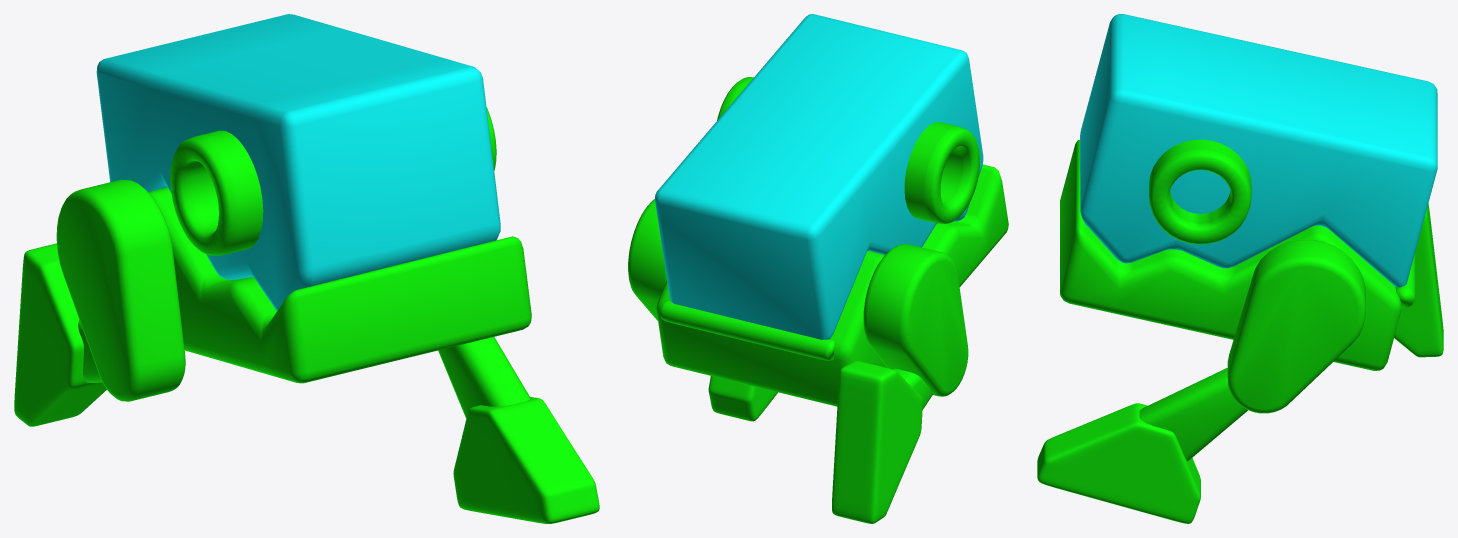
3 renders of one model, left to right at view 1: azimuth 30°, elevation 25°; view 2: azimuth 150°, elevation 25°; view 3: azimuth 270°, elevation 25°, orthographic. The views are drawn at different scales.
Parts seen in each view (by area): view 1: Top_Jaw, Lower_Jaw, Thighs_Left, Feet_Right, Feet_Left, Eyes, Shin_Right; view 2: Top_Jaw, Lower_Jaw, Thighs_Left, Feet_Left, Eyes, Hinge, Thighs_Right, Feet_Right, Shin_Left; view 3: Top_Jaw, Lower_Jaw, Thighs_Right, Feet_Right, Eyes, Shin_Right, Feet_Left, Hinge.
Part boxes in pixels (box(x1,y1,x2,y2)): Top_Jaw: box(96, 14, 500, 310); Lower_Jaw: box(148, 187, 531, 383); Thighs_Left: box(56, 179, 185, 401); Feet_Right: box(453, 397, 599, 523); Feet_Left: box(14, 243, 106, 426); Eyes: box(170, 107, 496, 255); Shin_Right: box(438, 337, 530, 418); Top_Jaw: box(655, 14, 983, 339); Lower_Jaw: box(656, 164, 1008, 406); Thighs_Left: box(863, 244, 968, 396); Feet_Left: box(832, 361, 922, 523); Eyes: box(717, 77, 980, 223); Hinge: box(660, 300, 836, 360); Thighs_Right: box(628, 199, 666, 320); Feet_Right: box(708, 376, 777, 421); Shin_Left: box(892, 368, 932, 409); Top_Jaw: box(1080, 14, 1437, 287); Lower_Jaw: box(1060, 140, 1401, 370); Thighs_Right: box(1227, 240, 1365, 413); Feet_Right: box(1037, 403, 1200, 523); Eyes: box(1149, 139, 1251, 244); Shin_Right: box(1139, 368, 1247, 461); Feet_Left: box(1394, 203, 1443, 357); Hinge: box(1395, 253, 1415, 308).
Bounding box in the file's own units: 2.03 × 2.63 × 2.4.
